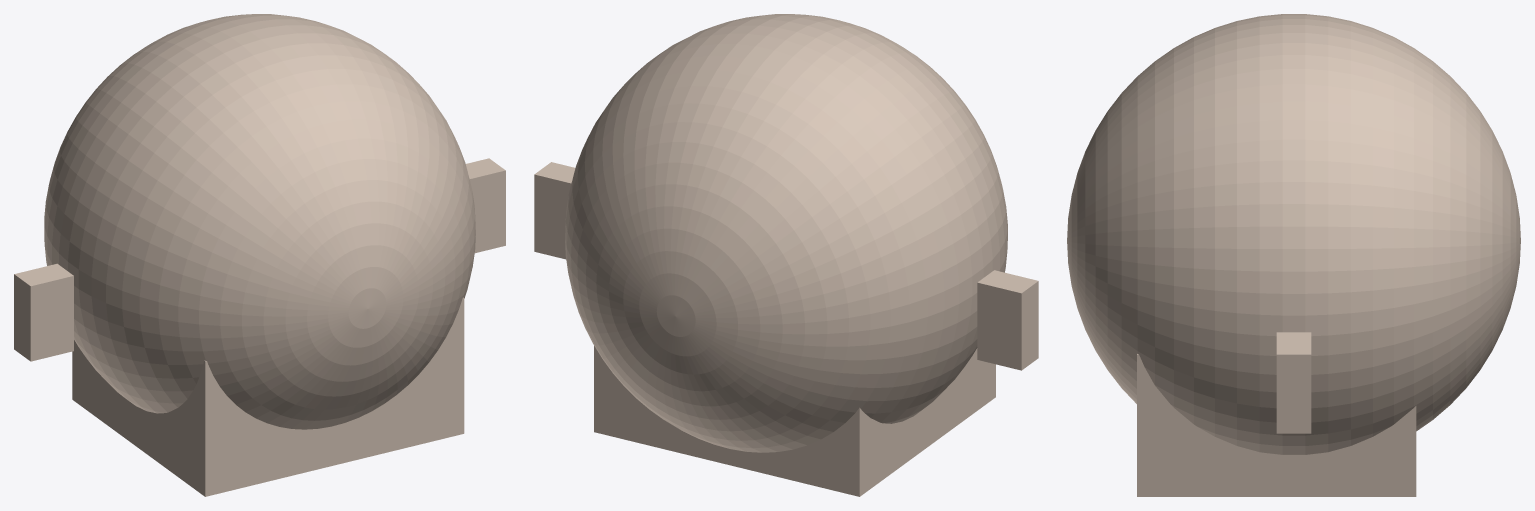
The model's file is head_01.glb.
3 views of the same model, side by side, from view 1: azimuth 30°, elevation 25°; view 2: azimuth 150°, elevation 25°; view 3: azimuth 270°, elevation 25° (orthographic). The views are drawn at different scales.
Parts seen in each view (by area): view 1: world; view 2: world; view 3: world.
Boxes of the visible parts, <box> form: world: <box>14,14,505,496</box>; world: <box>534,14,1038,496</box>; world: <box>1067,14,1520,496</box>.
Bounding box in the file's own units: 0.66 × 0.5192 × 0.52.
